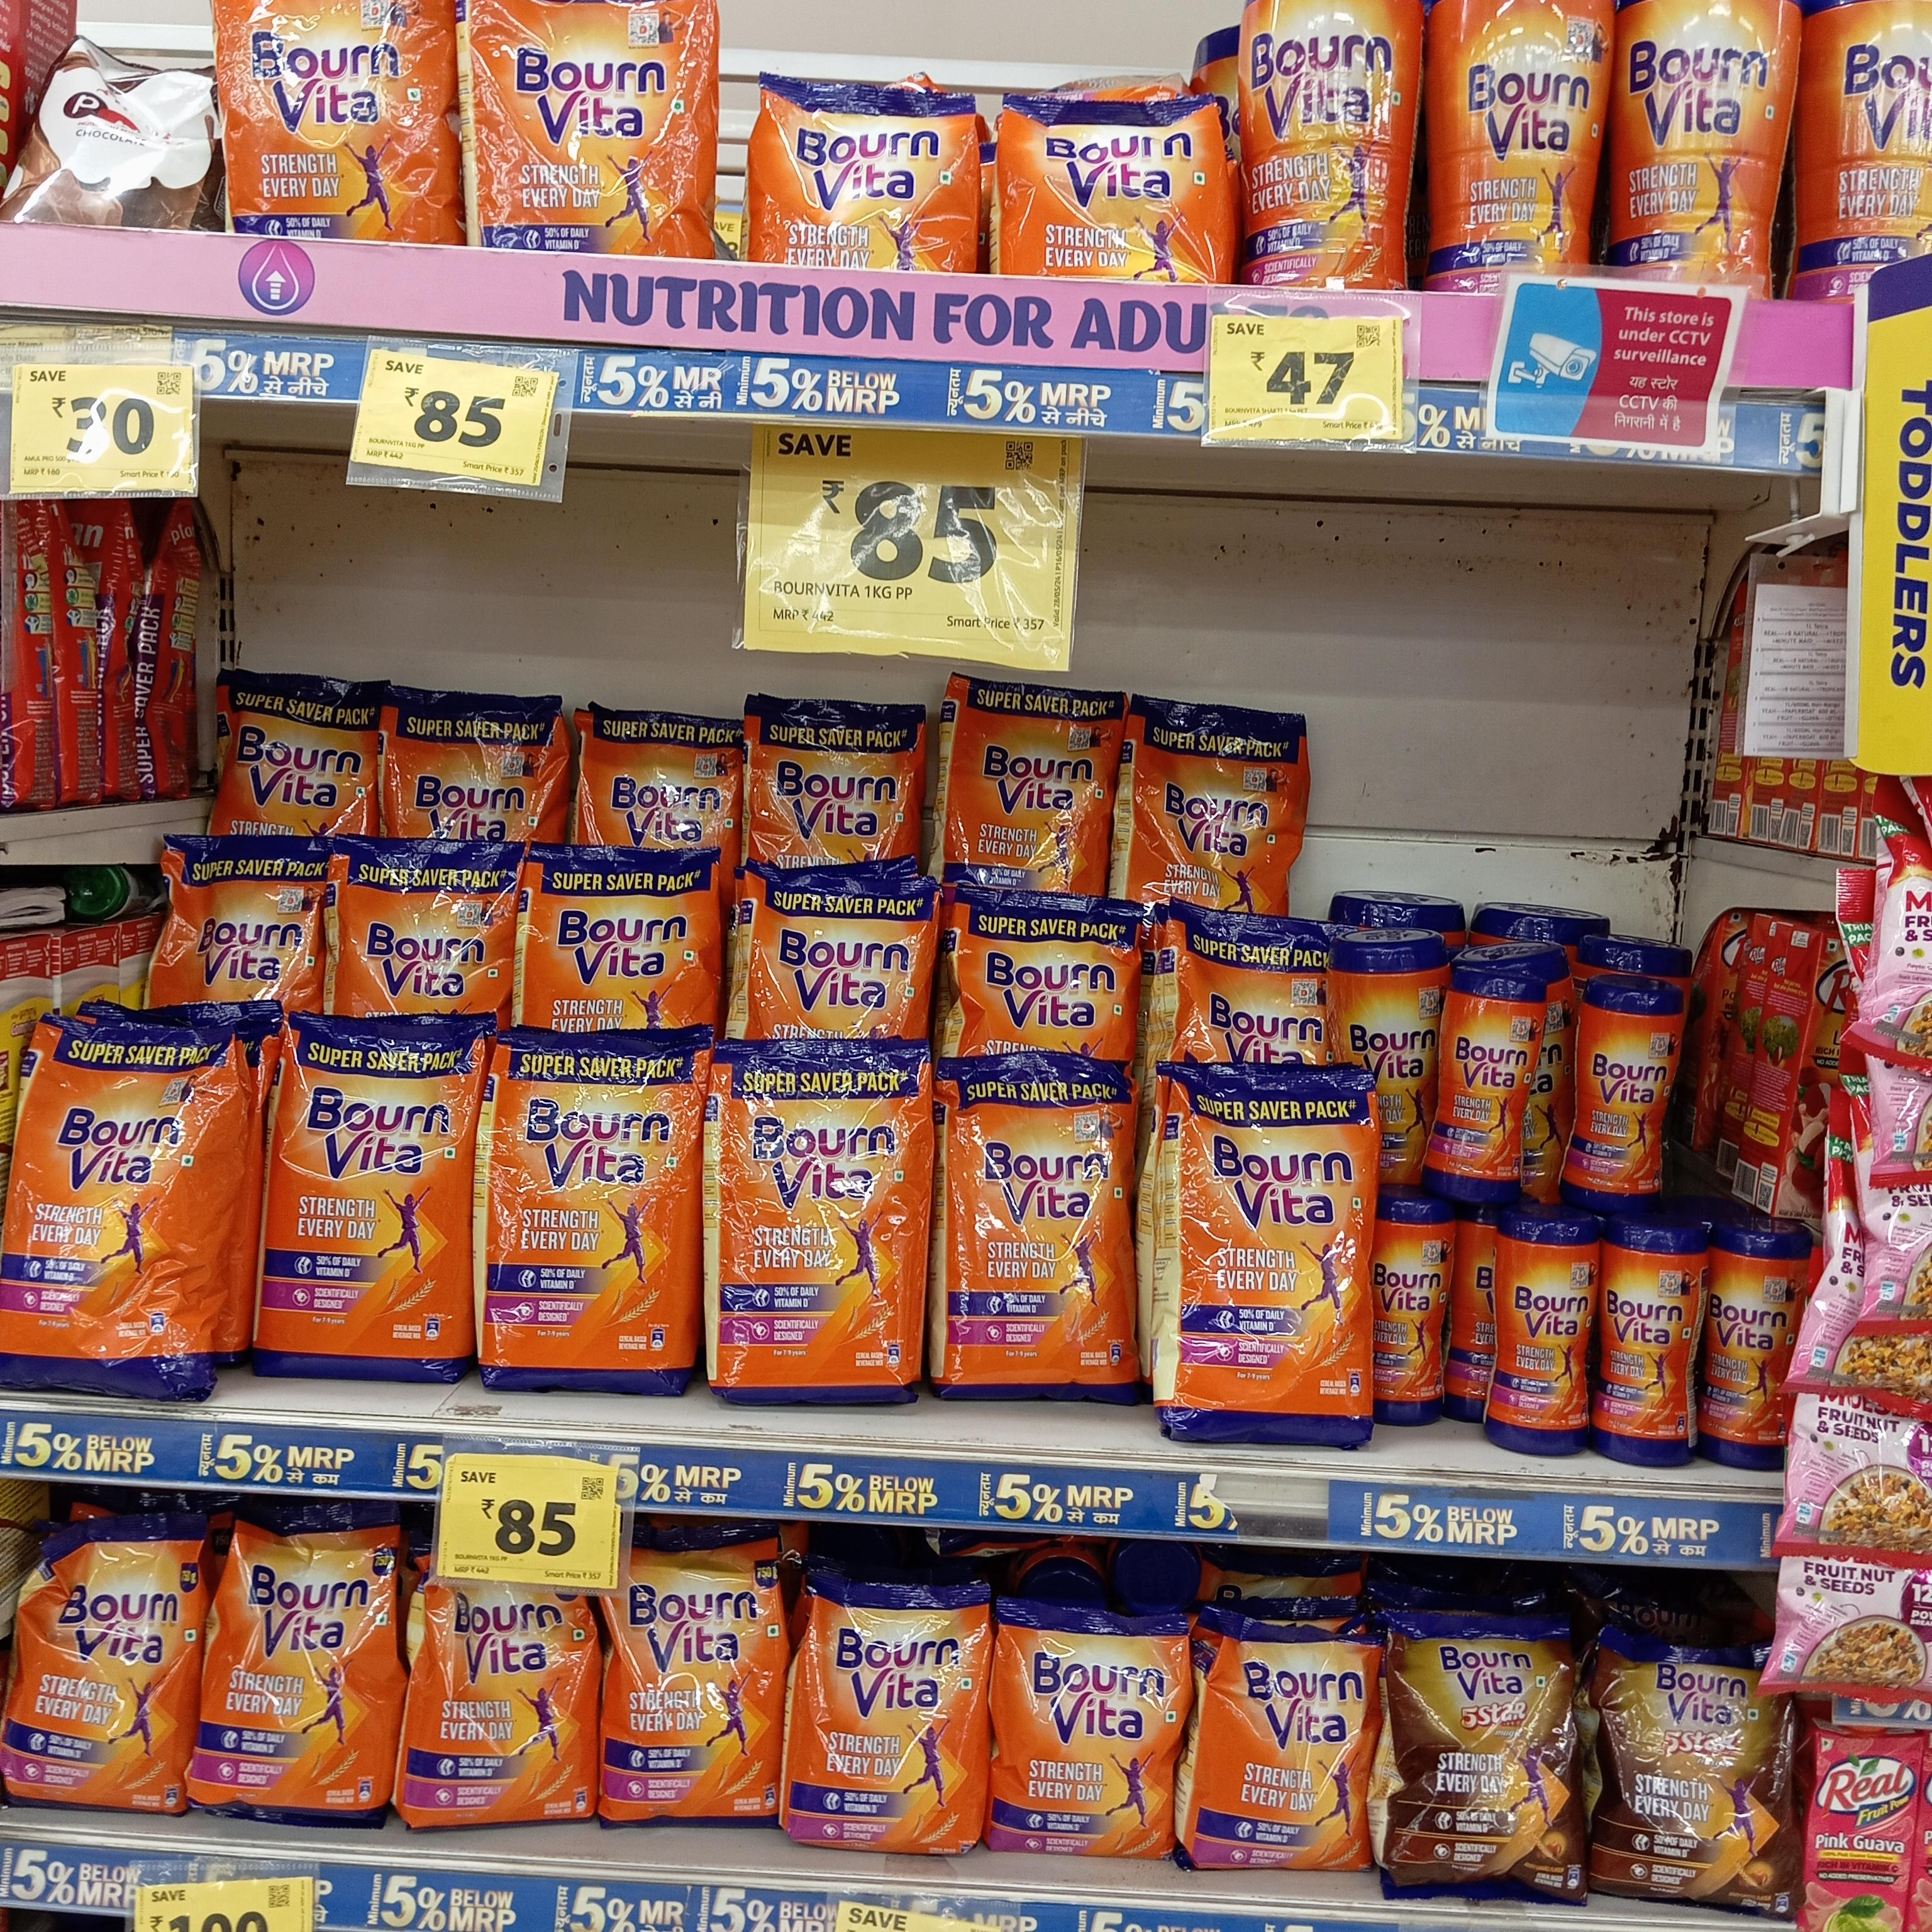BOURN_VITA_1_KG_JAR: (1622, 0, 1787, 290), (1247, 0, 1410, 290), (1440, 0, 1603, 290)
BOURN_VITA_1_KG_POUCH: (18, 1024, 226, 1401), (485, 1046, 694, 1392), (1189, 1065, 1368, 1447), (734, 1056, 925, 1407), (272, 1033, 453, 1376), (469, 0, 706, 248), (959, 1063, 1125, 1399), (225, 0, 451, 246), (1127, 699, 1299, 916), (957, 679, 1122, 893)
BOURN_VITA_500_G_JAR: (1495, 1212, 1598, 1456), (1569, 982, 1675, 1208), (1711, 1217, 1801, 1474), (1603, 1226, 1697, 1467), (1440, 973, 1539, 1196), (1375, 1198, 1453, 1426)
BOURN_VITA_500_G_POUCH: (784, 1594, 978, 1852), (996, 1606, 1177, 1870), (761, 81, 978, 281), (1196, 1619, 1362, 1872), (1003, 96, 1208, 278)
BOURN_VITA_750_G_POUCH: (212, 1532, 395, 1824), (596, 1568, 780, 1824), (16, 1545, 182, 1824), (421, 1576, 586, 1822)
BOURN_VITA_FIVE_STAR_MAGIC_500_G_POUCH: (1394, 1622, 1585, 1904), (1601, 1645, 1785, 1909)
